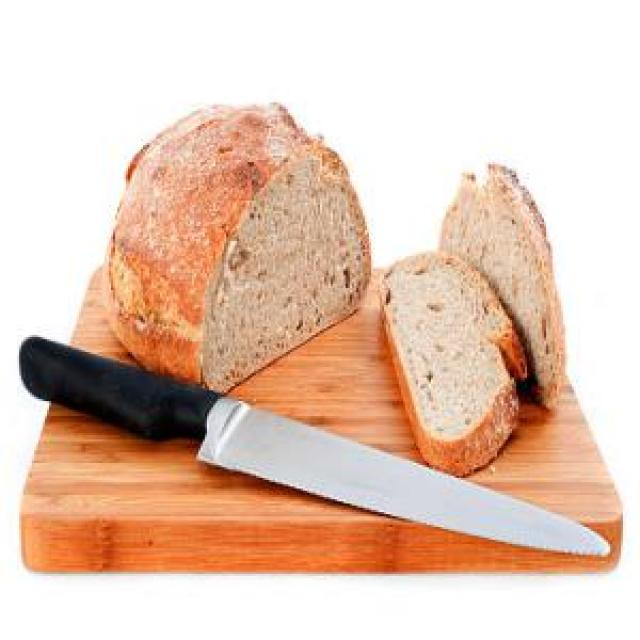knife: (17, 331, 613, 576)
